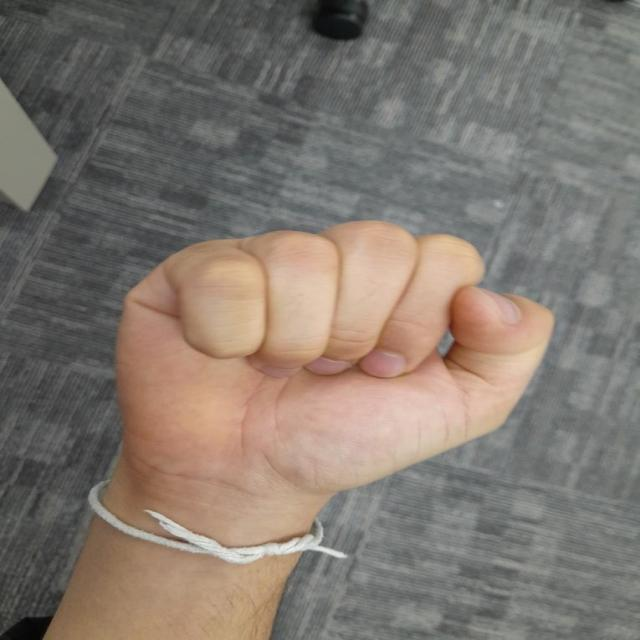fist: (116, 221, 554, 515)
